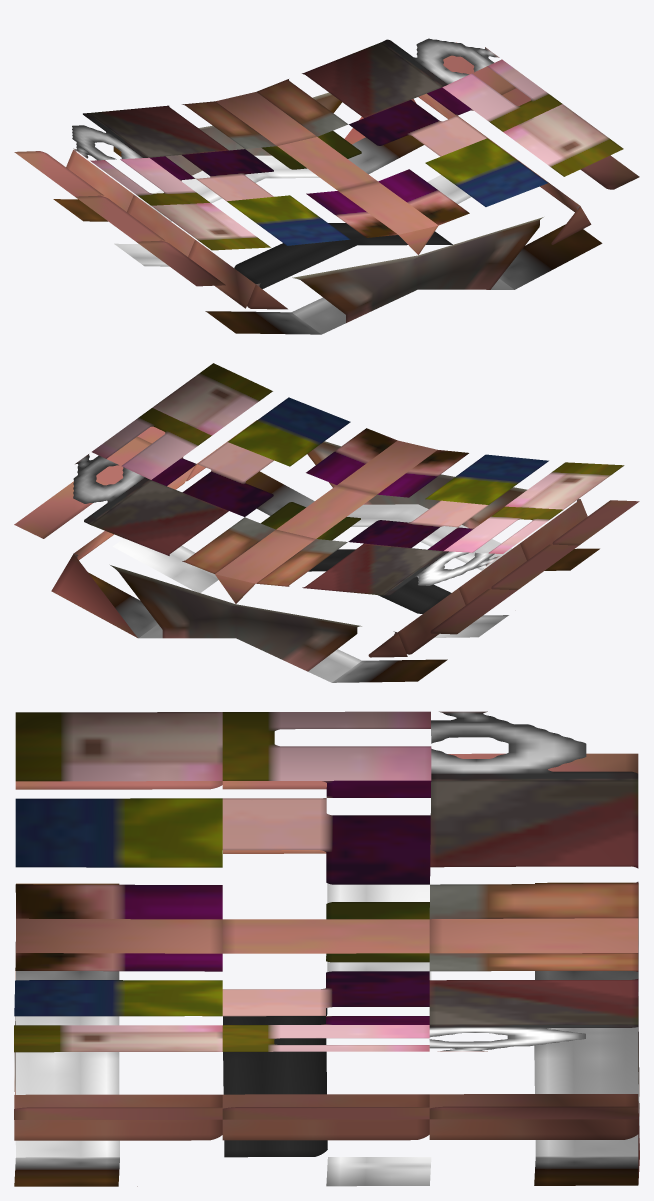
3 views of the same model, one above another, from view 1: azimuth 30°, elevation 25°; view 2: azimuth 150°, elevation 25°; view 3: azimuth 270°, elevation 25° (orthographic). The views are drawn at different scales.
Visible parts, largest first — view 1: T1L3M001_13; view 2: T1L3M001_13; view 3: T1L3M001_13.
Part boxes in pixels (box(x1,y1,x2,y2)): T1L3M001_13: box(14, 38, 639, 334); T1L3M001_13: box(14, 363, 639, 682); T1L3M001_13: box(14, 711, 639, 1186).
Size of the model in its own units: 0.559 by 0.1392 by 0.4016.
